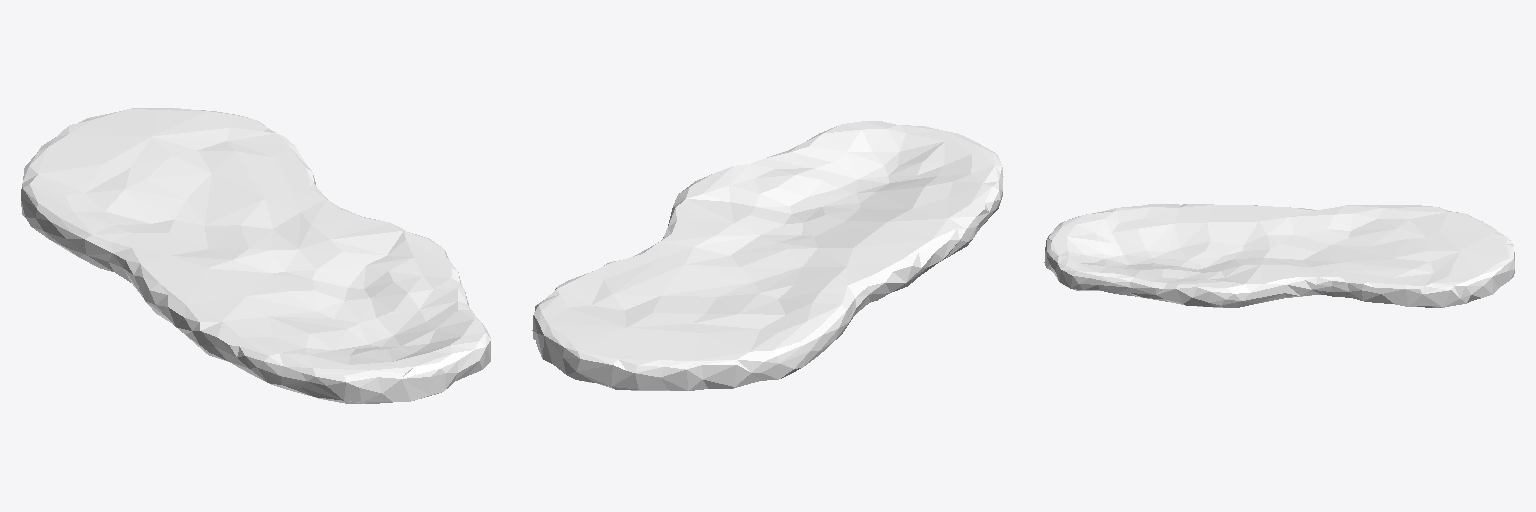
The robot description file, URDF, robot "steak_3":
<?xml version="1.0"?>
<robot name="steak_3">
  <material name="BeafSteak">
    <texture filename="visual/image0.png" />
    <color rgba="1 1 1 1" />
  </material>

  <link name="base_link">
    <inertial>
      <origin xyz="0 0 0" rpy="0 0 0" />
      <mass value="0.5" />
      <inertia ixx="0.001" ixy="0" ixz="0" iyy="0.001" iyz="0" izz="0.001" />
    </inertial>

    <visual>
      <origin xyz="0 0 0" rpy="0 0 0" />
      <geometry>
        <mesh filename="visual/model_normalized_0.obj" scale="0.145 0.145 0.145" />
      </geometry>
      <material name="BeafSteak" />
    </visual>

    <collision>
      <origin xyz="0 0 0" rpy="0 0 0" />
      <geometry>
        <mesh filename="collision/model_normalized_collision_22.obj" scale="0.145 0.145 0.145" />
      </geometry>
    </collision>
    <collision>
      <origin xyz="0 0 0" rpy="0 0 0" />
      <geometry>
        <mesh filename="collision/model_normalized_collision_23.obj" scale="0.145 0.145 0.145" />
      </geometry>
    </collision>
    <collision>
      <origin xyz="0 0 0" rpy="0 0 0" />
      <geometry>
        <mesh filename="collision/model_normalized_collision_21.obj" scale="0.145 0.145 0.145" />
      </geometry>
    </collision>
    <collision>
      <origin xyz="0 0 0" rpy="0 0 0" />
      <geometry>
        <mesh filename="collision/model_normalized_collision_20.obj" scale="0.145 0.145 0.145" />
      </geometry>
    </collision>
    <collision>
      <origin xyz="0 0 0" rpy="0 0 0" />
      <geometry>
        <mesh filename="collision/model_normalized_collision_24.obj" scale="0.145 0.145 0.145" />
      </geometry>
    </collision>
    <collision>
      <origin xyz="0 0 0" rpy="0 0 0" />
      <geometry>
        <mesh filename="collision/model_normalized_collision_30.obj" scale="0.145 0.145 0.145" />
      </geometry>
    </collision>
    <collision>
      <origin xyz="0 0 0" rpy="0 0 0" />
      <geometry>
        <mesh filename="collision/model_normalized_collision_18.obj" scale="0.145 0.145 0.145" />
      </geometry>
    </collision>
    <collision>
      <origin xyz="0 0 0" rpy="0 0 0" />
      <geometry>
        <mesh filename="collision/model_normalized_collision_19.obj" scale="0.145 0.145 0.145" />
      </geometry>
    </collision>
    <collision>
      <origin xyz="0 0 0" rpy="0 0 0" />
      <geometry>
        <mesh filename="collision/model_normalized_collision_31.obj" scale="0.145 0.145 0.145" />
      </geometry>
    </collision>
    <collision>
      <origin xyz="0 0 0" rpy="0 0 0" />
      <geometry>
        <mesh filename="collision/model_normalized_collision_25.obj" scale="0.145 0.145 0.145" />
      </geometry>
    </collision>
    <collision>
      <origin xyz="0 0 0" rpy="0 0 0" />
      <geometry>
        <mesh filename="collision/model_normalized_collision_27.obj" scale="0.145 0.145 0.145" />
      </geometry>
    </collision>
    <collision>
      <origin xyz="0 0 0" rpy="0 0 0" />
      <geometry>
        <mesh filename="collision/model_normalized_collision_26.obj" scale="0.145 0.145 0.145" />
      </geometry>
    </collision>
    <collision>
      <origin xyz="0 0 0" rpy="0 0 0" />
      <geometry>
        <mesh filename="collision/model_normalized_collision_9.obj" scale="0.145 0.145 0.145" />
      </geometry>
    </collision>
    <collision>
      <origin xyz="0 0 0" rpy="0 0 0" />
      <geometry>
        <mesh filename="collision/model_normalized_collision_8.obj" scale="0.145 0.145 0.145" />
      </geometry>
    </collision>
    <collision>
      <origin xyz="0 0 0" rpy="0 0 0" />
      <geometry>
        <mesh filename="collision/model_normalized_collision_6.obj" scale="0.145 0.145 0.145" />
      </geometry>
    </collision>
    <collision>
      <origin xyz="0 0 0" rpy="0 0 0" />
      <geometry>
        <mesh filename="collision/model_normalized_collision_7.obj" scale="0.145 0.145 0.145" />
      </geometry>
    </collision>
    <collision>
      <origin xyz="0 0 0" rpy="0 0 0" />
      <geometry>
        <mesh filename="collision/model_normalized_collision_5.obj" scale="0.145 0.145 0.145" />
      </geometry>
    </collision>
    <collision>
      <origin xyz="0 0 0" rpy="0 0 0" />
      <geometry>
        <mesh filename="collision/model_normalized_collision_4.obj" scale="0.145 0.145 0.145" />
      </geometry>
    </collision>
    <collision>
      <origin xyz="0 0 0" rpy="0 0 0" />
      <geometry>
        <mesh filename="collision/model_normalized_collision_0.obj" scale="0.145 0.145 0.145" />
      </geometry>
    </collision>
    <collision>
      <origin xyz="0 0 0" rpy="0 0 0" />
      <geometry>
        <mesh filename="collision/model_normalized_collision_1.obj" scale="0.145 0.145 0.145" />
      </geometry>
    </collision>
    <collision>
      <origin xyz="0 0 0" rpy="0 0 0" />
      <geometry>
        <mesh filename="collision/model_normalized_collision_3.obj" scale="0.145 0.145 0.145" />
      </geometry>
    </collision>
    <collision>
      <origin xyz="0 0 0" rpy="0 0 0" />
      <geometry>
        <mesh filename="collision/model_normalized_collision_2.obj" scale="0.145 0.145 0.145" />
      </geometry>
    </collision>
    <collision>
      <origin xyz="0 0 0" rpy="0 0 0" />
      <geometry>
        <mesh filename="collision/model_normalized_collision_17.obj" scale="0.145 0.145 0.145" />
      </geometry>
    </collision>
    <collision>
      <origin xyz="0 0 0" rpy="0 0 0" />
      <geometry>
        <mesh filename="collision/model_normalized_collision_16.obj" scale="0.145 0.145 0.145" />
      </geometry>
    </collision>
    <collision>
      <origin xyz="0 0 0" rpy="0 0 0" />
      <geometry>
        <mesh filename="collision/model_normalized_collision_28.obj" scale="0.145 0.145 0.145" />
      </geometry>
    </collision>
    <collision>
      <origin xyz="0 0 0" rpy="0 0 0" />
      <geometry>
        <mesh filename="collision/model_normalized_collision_14.obj" scale="0.145 0.145 0.145" />
      </geometry>
    </collision>
    <collision>
      <origin xyz="0 0 0" rpy="0 0 0" />
      <geometry>
        <mesh filename="collision/model_normalized_collision_15.obj" scale="0.145 0.145 0.145" />
      </geometry>
    </collision>
    <collision>
      <origin xyz="0 0 0" rpy="0 0 0" />
      <geometry>
        <mesh filename="collision/model_normalized_collision_29.obj" scale="0.145 0.145 0.145" />
      </geometry>
    </collision>
    <collision>
      <origin xyz="0 0 0" rpy="0 0 0" />
      <geometry>
        <mesh filename="collision/model_normalized_collision_11.obj" scale="0.145 0.145 0.145" />
      </geometry>
    </collision>
    <collision>
      <origin xyz="0 0 0" rpy="0 0 0" />
      <geometry>
        <mesh filename="collision/model_normalized_collision_10.obj" scale="0.145 0.145 0.145" />
      </geometry>
    </collision>
    <collision>
      <origin xyz="0 0 0" rpy="0 0 0" />
      <geometry>
        <mesh filename="collision/model_normalized_collision_12.obj" scale="0.145 0.145 0.145" />
      </geometry>
    </collision>
    <collision>
      <origin xyz="0 0 0" rpy="0 0 0" />
      <geometry>
        <mesh filename="collision/model_normalized_collision_13.obj" scale="0.145 0.145 0.145" />
      </geometry>
    </collision>
  </link>
</robot>

--- What the picture shows (computed from the rendered views, not written in the file) ---
The picture shows the robot from 3 angles, left to right: view 1: azimuth 30°, elevation 25°; view 2: azimuth 150°, elevation 25°; view 3: azimuth 270°, elevation 25°; orthographic projection.
Robot: steak_3 — 1 links, 0 joints (none); root link base_link; default pose: every joint at zero.
Visible links, largest first — view 1: base_link; view 2: base_link; view 3: base_link.
Boxes of the visible links, box(x1,y1,x2,y2) form: base_link: box(21, 108, 490, 403); base_link: box(532, 121, 1003, 390); base_link: box(1044, 204, 1514, 307).
Bounding box of the posed robot: 0.0655 × 0.145 × 0.0085 m (x, y, z).
Meshes: 1 distinct files referenced, 1 mesh visuals loaded (1 OBJ).